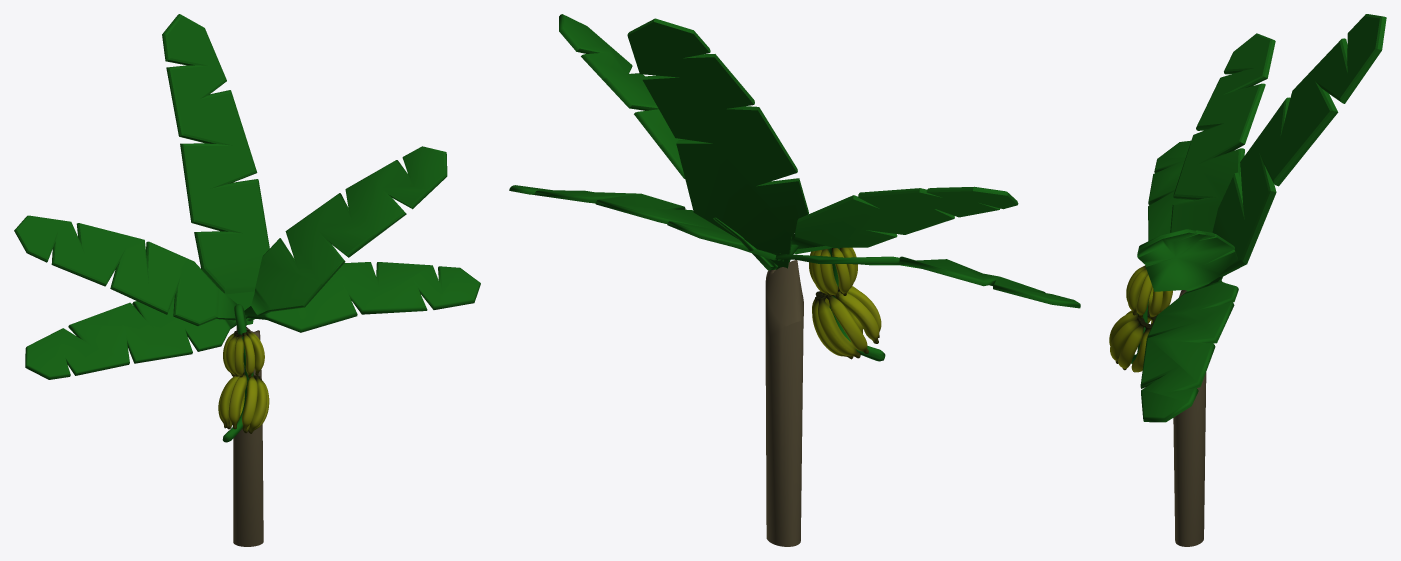
The model's file is MATA DE PLATANO.fbx.
3 renders of one model, left to right at view 1: azimuth 30°, elevation 25°; view 2: azimuth 150°, elevation 25°; view 3: azimuth 270°, elevation 25°, orthographic. The views are drawn at different scales.
Visible parts, largest first — view 1: Cylinder.003; view 2: Cylinder.003; view 3: Cylinder.003.
Part boxes in pixels (x1=…): Cylinder.003: x1=14, y1=14, x2=480, y2=546; Cylinder.003: x1=509, y1=14, x2=1080, y2=546; Cylinder.003: x1=1109, y1=14, x2=1386, y2=546.
Bounding box in the file's own units: 2989 × 2942 × 1390.
